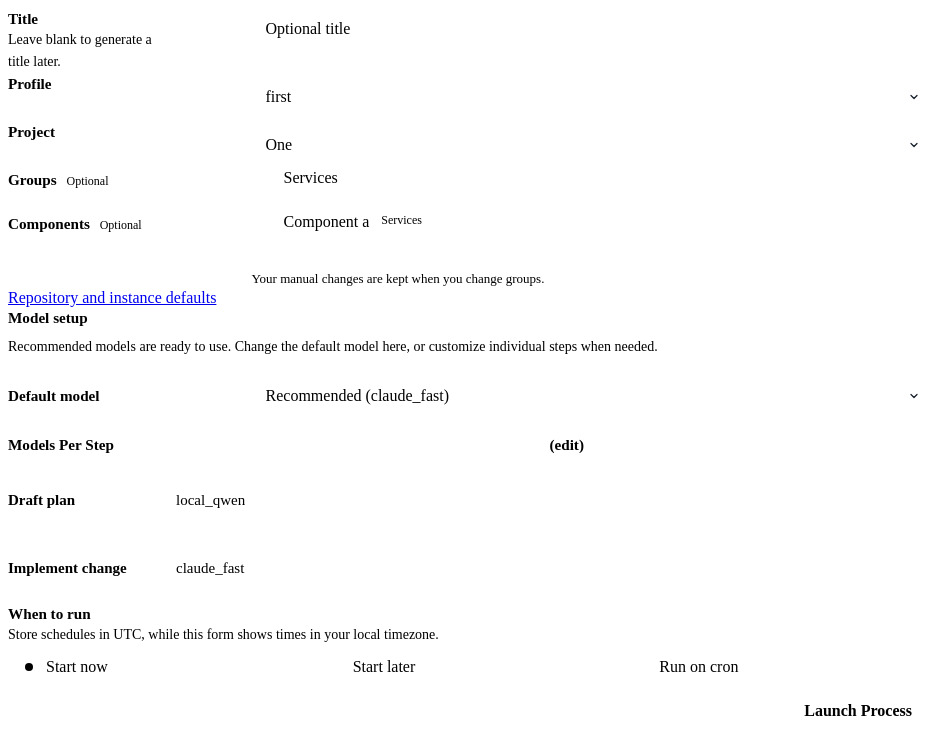
launcher selection presets › supports schema-defined presets and cascades scope resets
Step 1. Select "second" in the dropdown with id "test-launcher-form-profile" → (590, 97), box [252,73,928,121]
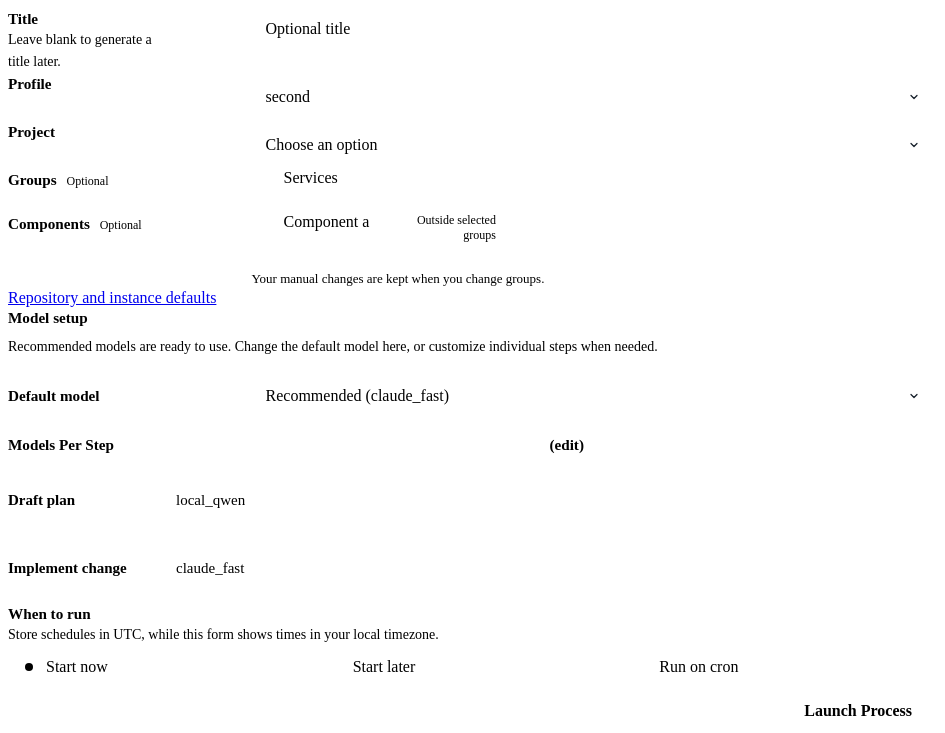
Expected: the dropdown with id "test-launcher-form-project" shows "Choose an option", [252,121,928,169]
